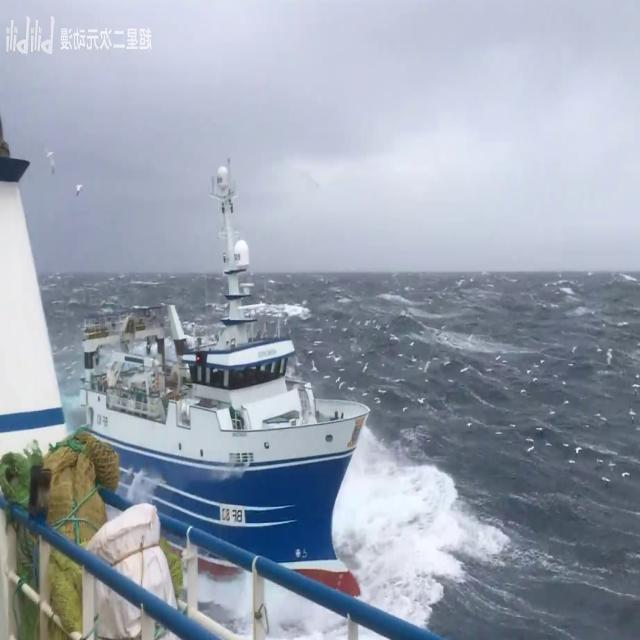houseboat: (78, 157, 371, 561)
